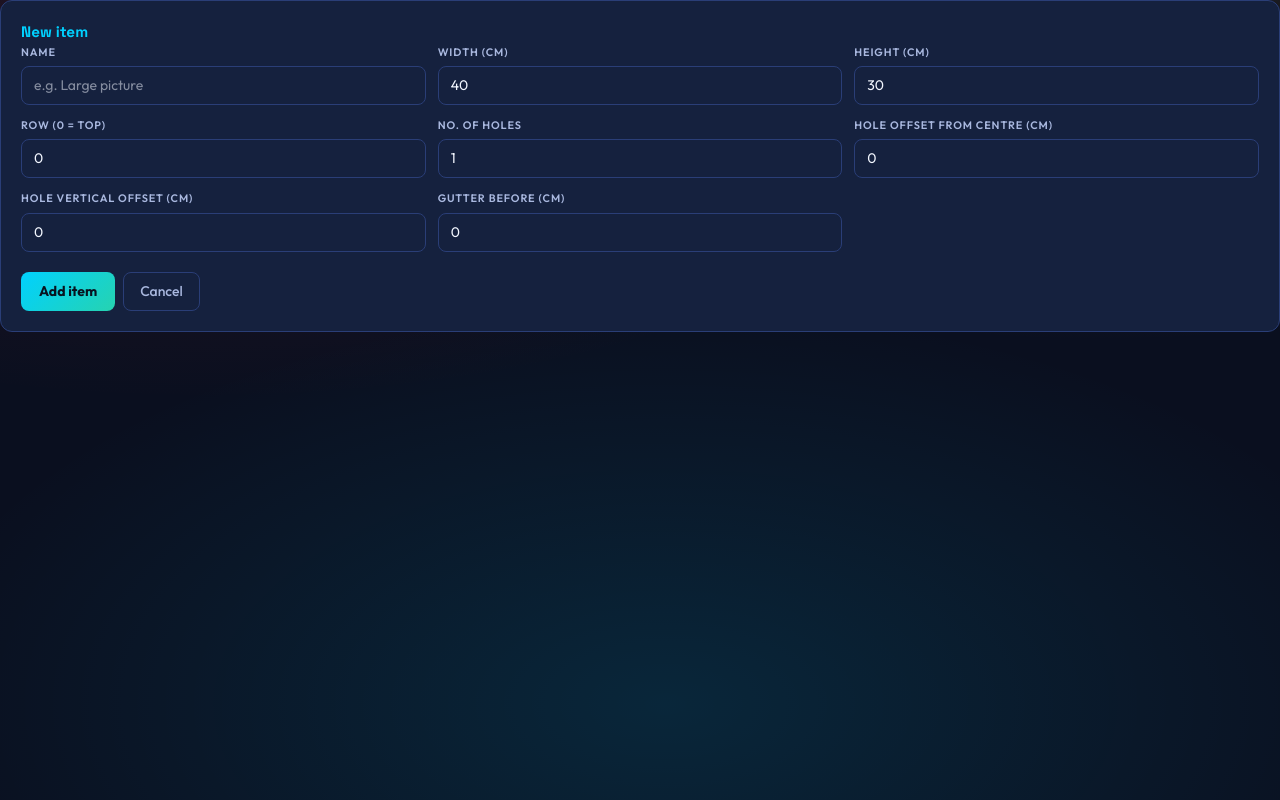
Test: ItemForm › hole spacing visibility › shows hole spacing after user increases holeCount to 2
Expected: the field labelled "hole spacing" is not shown
Replace the text in the number field labelled "No. of holes" with "2": (640, 159) [438,139,842,178]
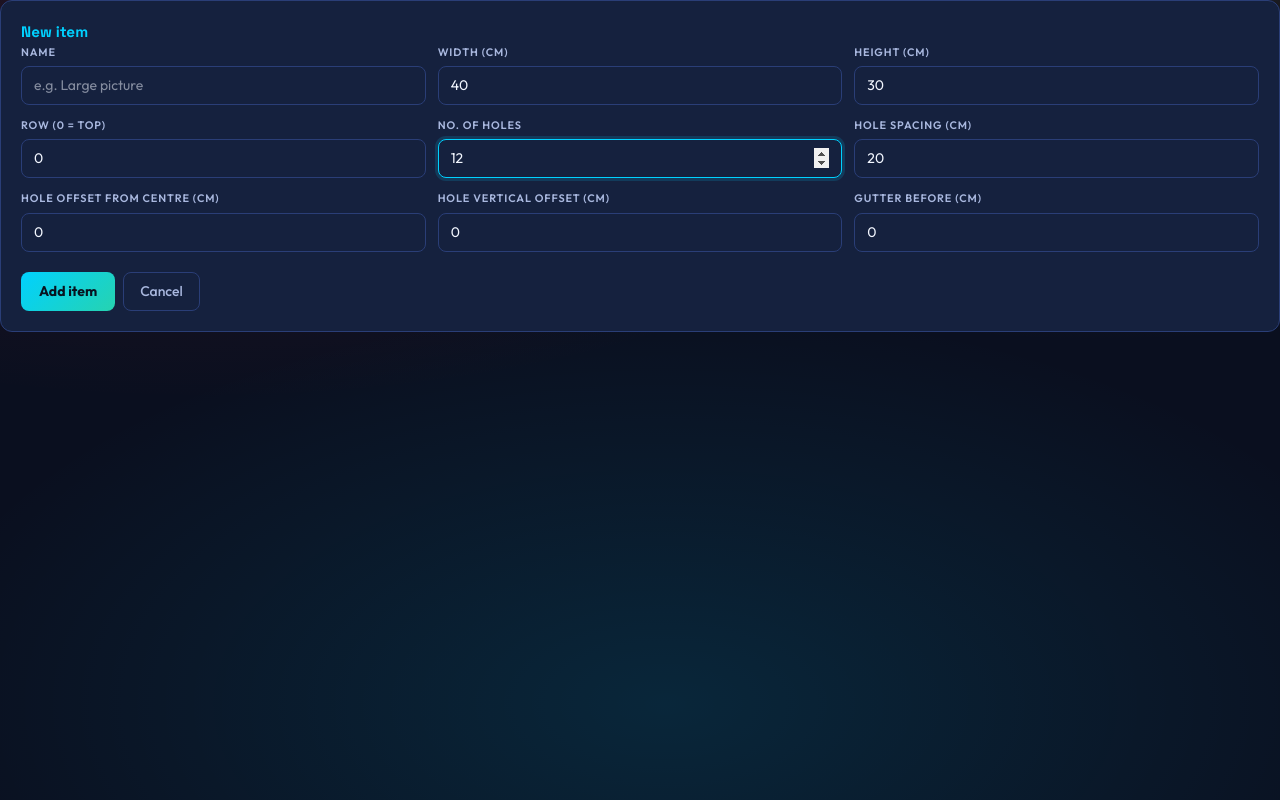
Result: the number field labelled "Hole spacing (cm)" is shown at [854,139,1259,178]
